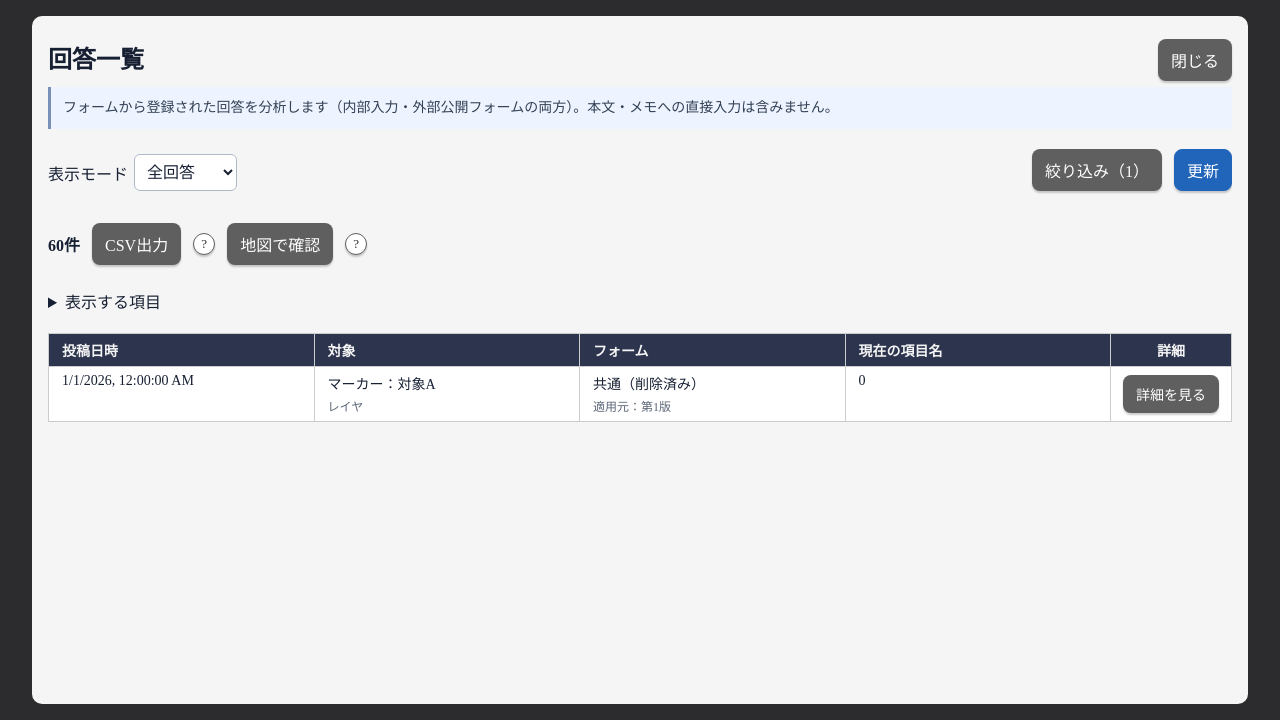
回答一覧 › CSVの事前検証失敗を表示し、ダウンロードを開始しない
Click the button "CSV出力" at x=137, y=244, box [92, 223, 181, 265]
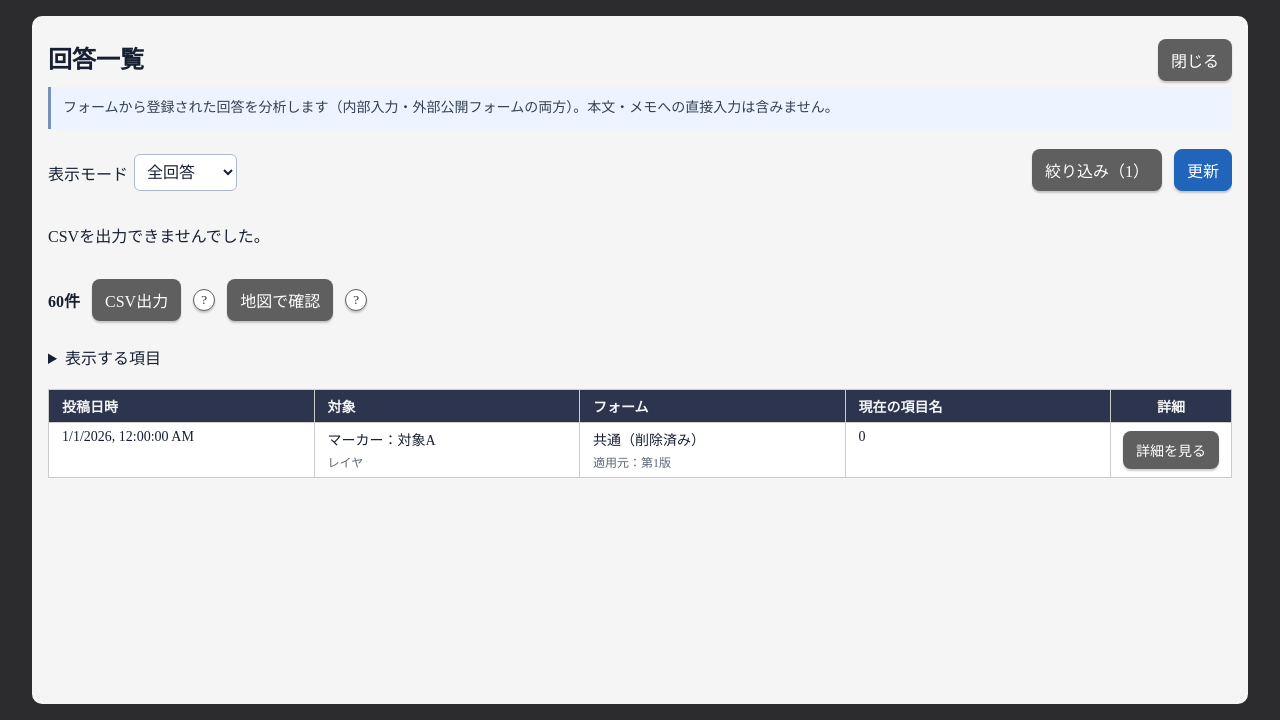
Check: the text "CSVを出力できませんでした" is shown, box [48, 228, 270, 245]
